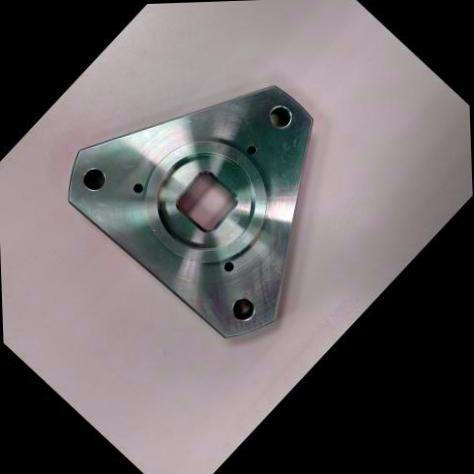hole: (262, 97, 302, 137), (224, 288, 263, 328), (75, 158, 114, 198), (219, 253, 242, 277), (241, 138, 262, 159), (128, 176, 148, 197)
